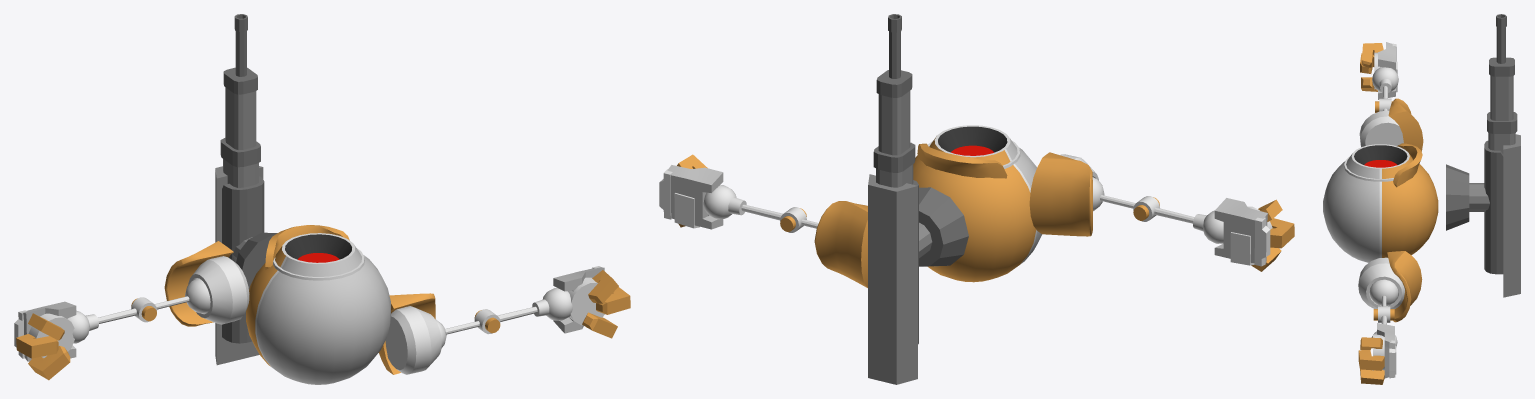
File: deneme7.fbx
3 renders of one model, left to right at view 1: azimuth 30°, elevation 25°; view 2: azimuth 150°, elevation 25°; view 3: azimuth 270°, elevation 25°, orthographic. The views are drawn at different scales.
Parts seen in each view (by area): view 1: HEAD, L_ARM, GUN, R_ARM; view 2: GUN, HEAD, L_ARM, R_ARM; view 3: HEAD, GUN, R_ARM, L_ARM.
Part boxes in pixels (bbox=[...]): HEAD: bbox=[246, 225, 390, 384]; L_ARM: bbox=[14, 241, 249, 380]; GUN: bbox=[215, 14, 277, 365]; R_ARM: bbox=[378, 266, 630, 374]; GUN: bbox=[868, 14, 968, 384]; HEAD: bbox=[913, 125, 1041, 282]; L_ARM: bbox=[1029, 152, 1294, 271]; R_ARM: bbox=[659, 154, 867, 287]; HEAD: bbox=[1323, 143, 1438, 262]; GUN: bbox=[1446, 14, 1520, 297]; R_ARM: bbox=[1358, 251, 1422, 384]; L_ARM: bbox=[1359, 42, 1423, 151].
Bounding box in the file's own units: 225 × 123 × 80.84.
